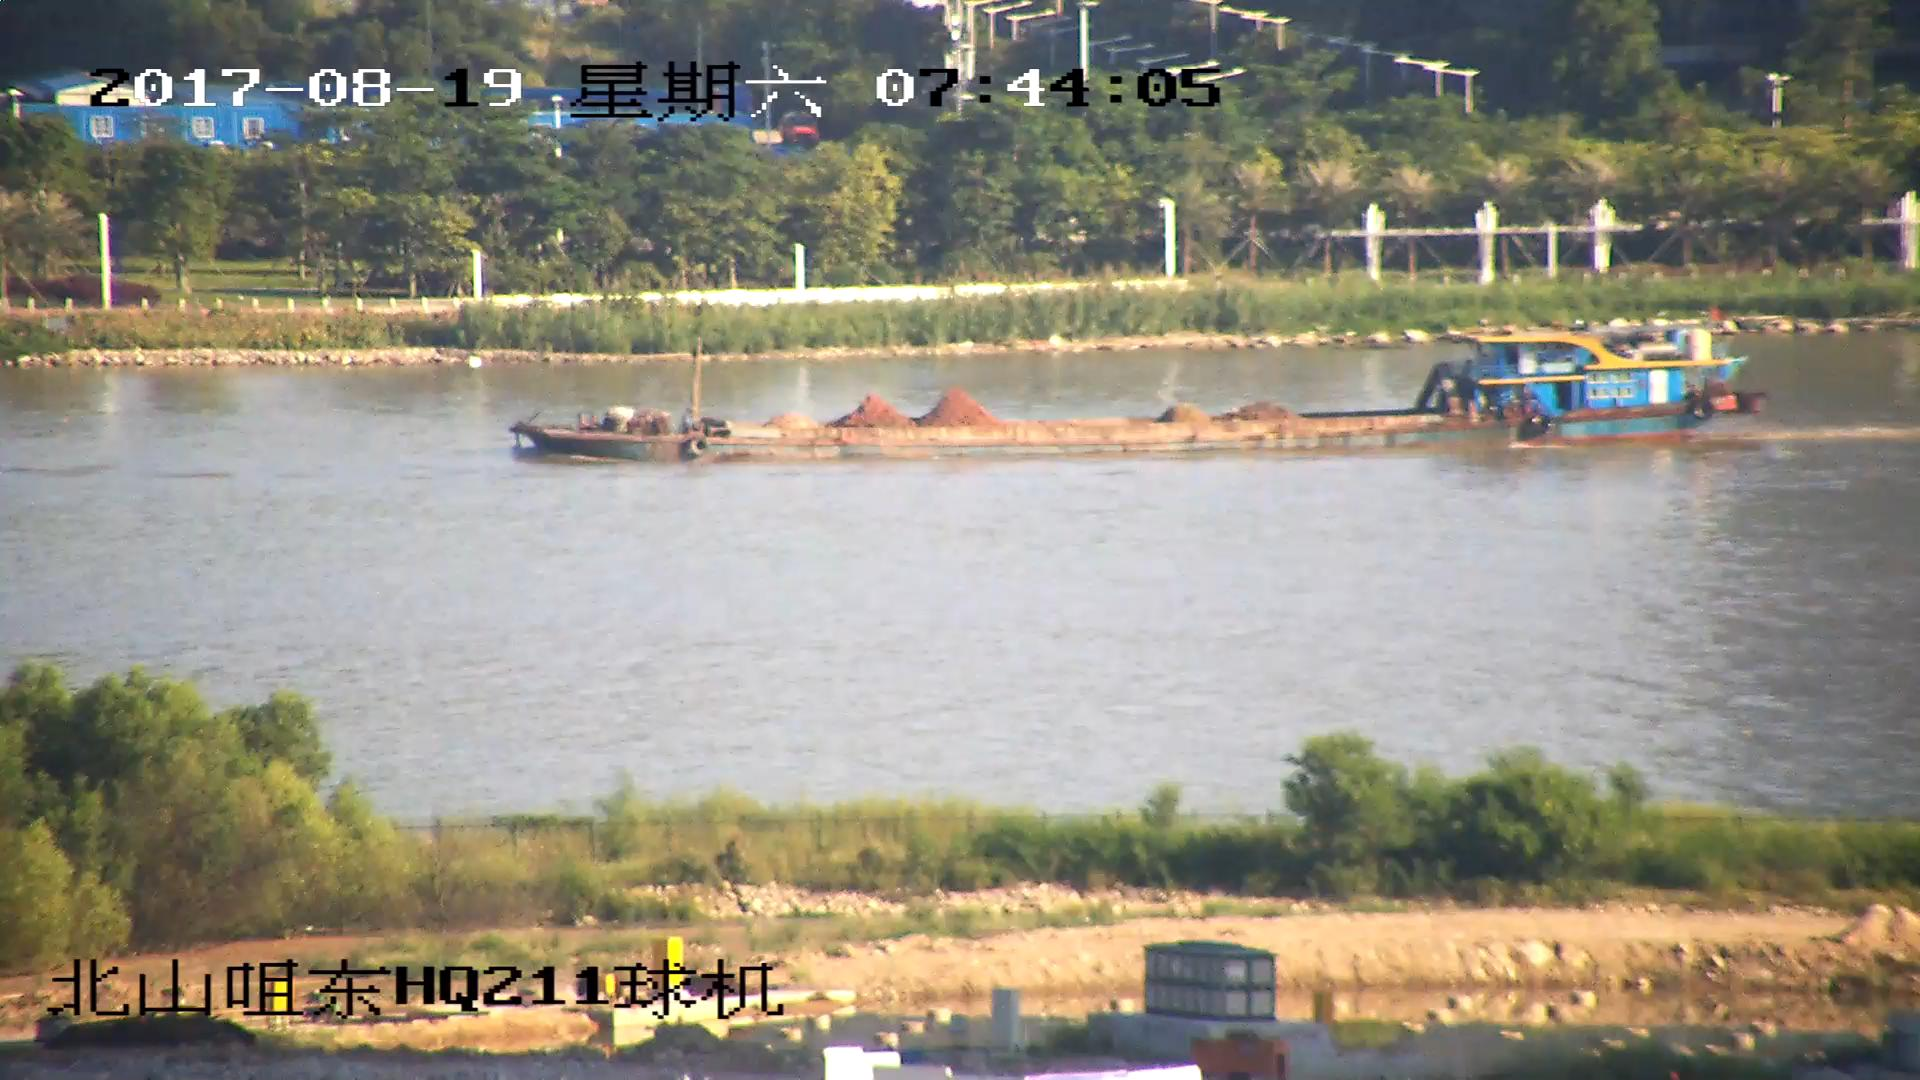ore carrier: (507, 304, 1762, 467)
